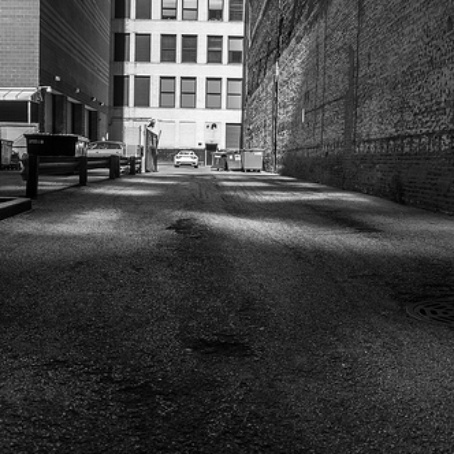building: (246, 1, 454, 202), (114, 1, 246, 151), (1, 1, 108, 150)
car: (170, 147, 202, 176)
street: (1, 172, 454, 454)
